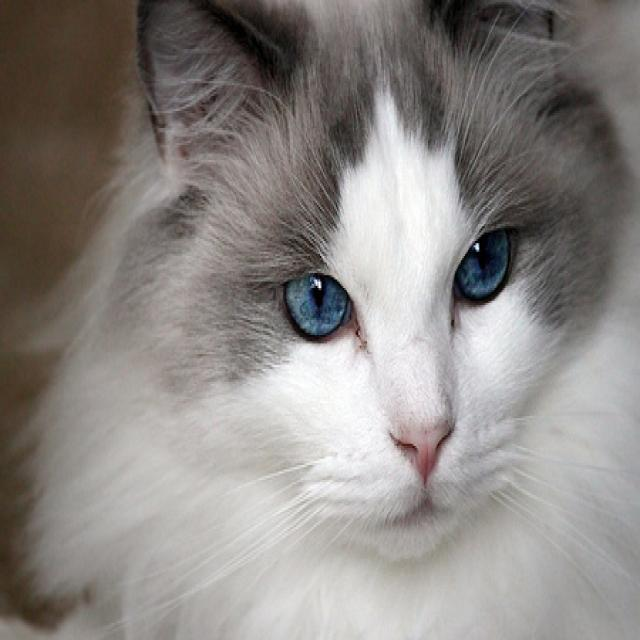Ragdoll: (15, 0, 640, 640)
